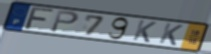7: (84, 14, 107, 36)
9: (107, 17, 130, 40)
F: (22, 6, 57, 31)
K: (157, 22, 185, 47), (131, 19, 158, 44)
P: (49, 9, 80, 34)
